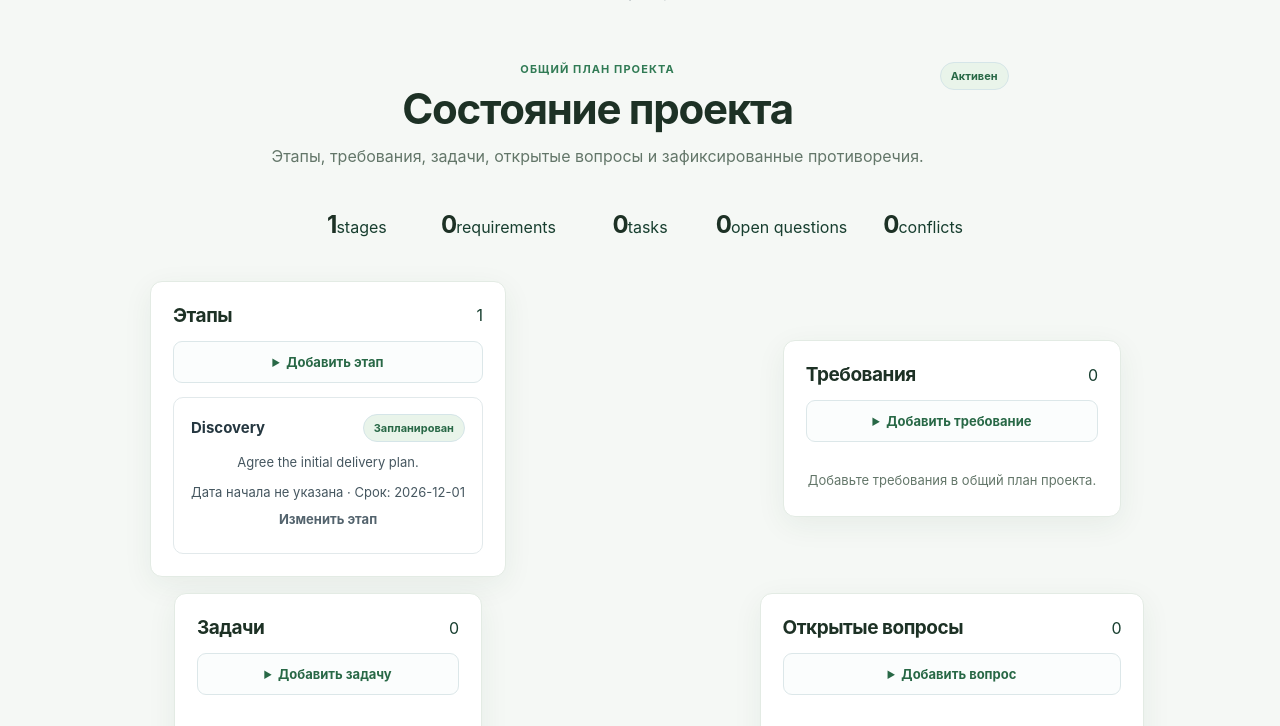
it: executor can add a stage with a due date and sees its status
Expected: the heading "Discovery" is shown, [191, 418, 265, 437]
Expected: the text "Дата начала не указана · Срок: 2026-12-01" is shown, [191, 482, 465, 503]
Click the heading "Добавить этап". click: (335,362)
box: [286, 354, 384, 370]
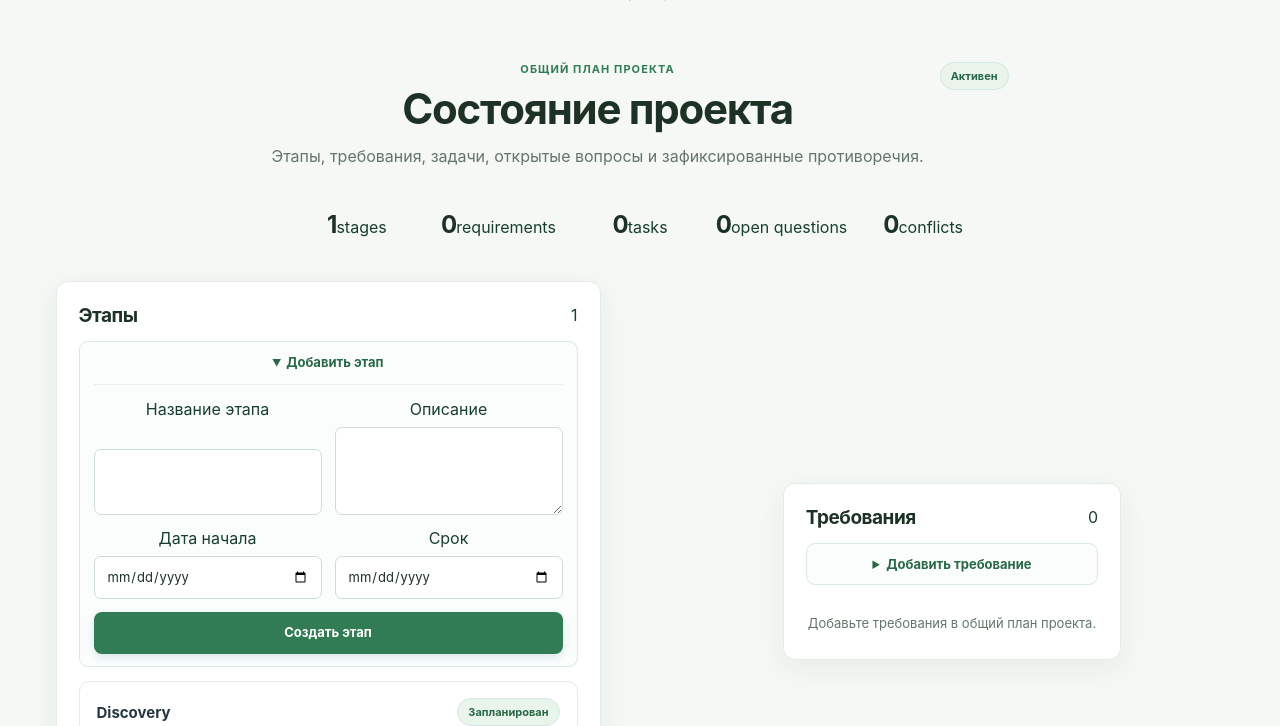
Type "Build" into the field labelled "Название этапа". click: (208,482)
box: [94, 449, 322, 515]
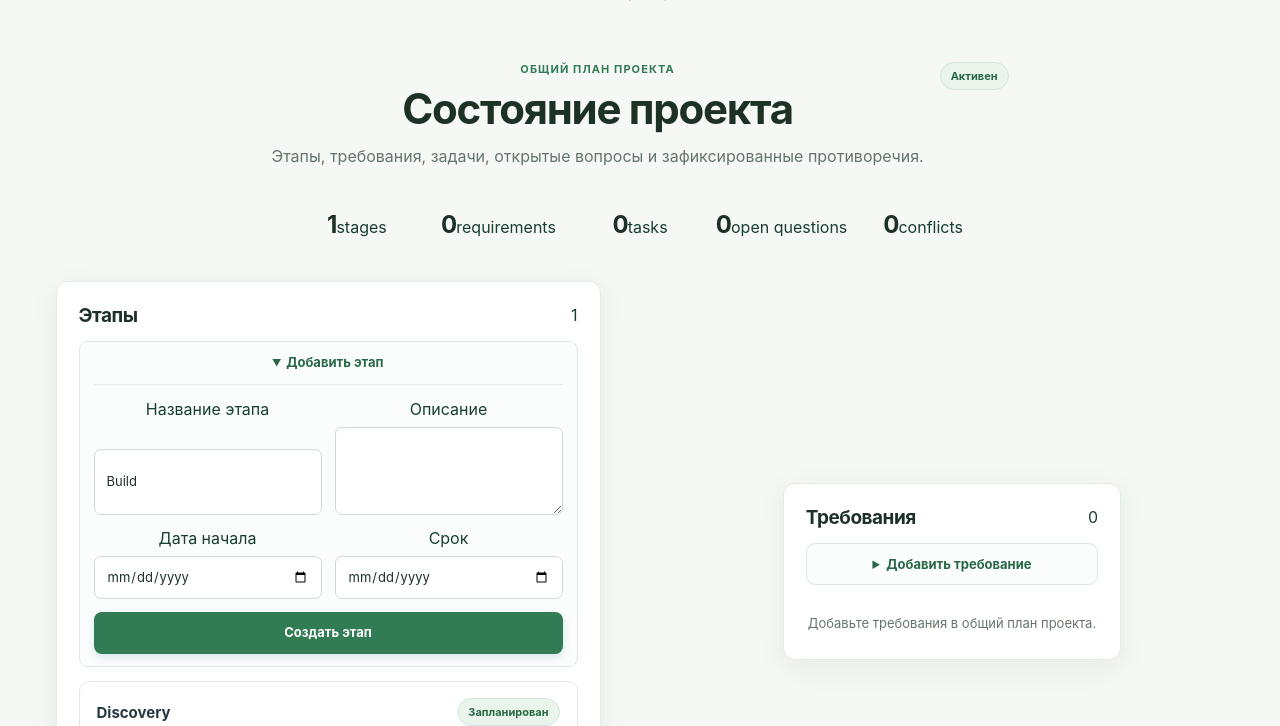
Click the button "Создать этап". click: (328,633)
box: [94, 612, 562, 654]
(page scrolled)
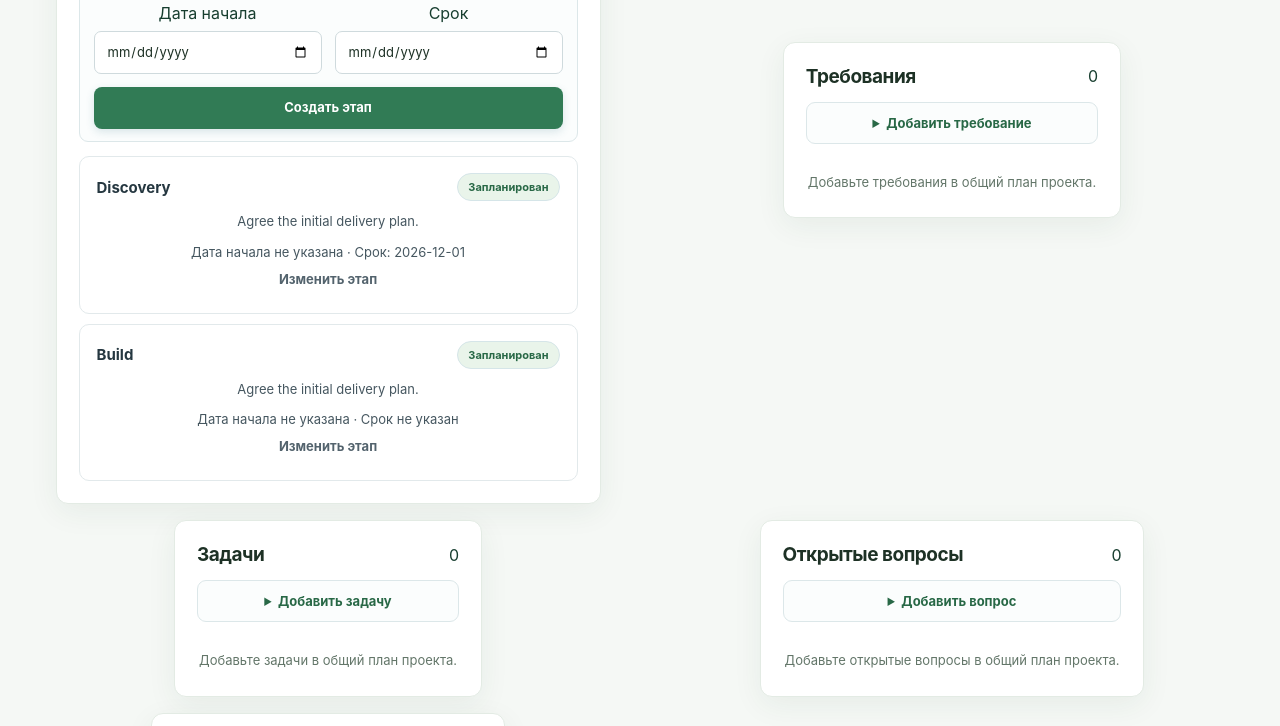
Now the heading "Build" is shown, box [96, 345, 133, 364]
